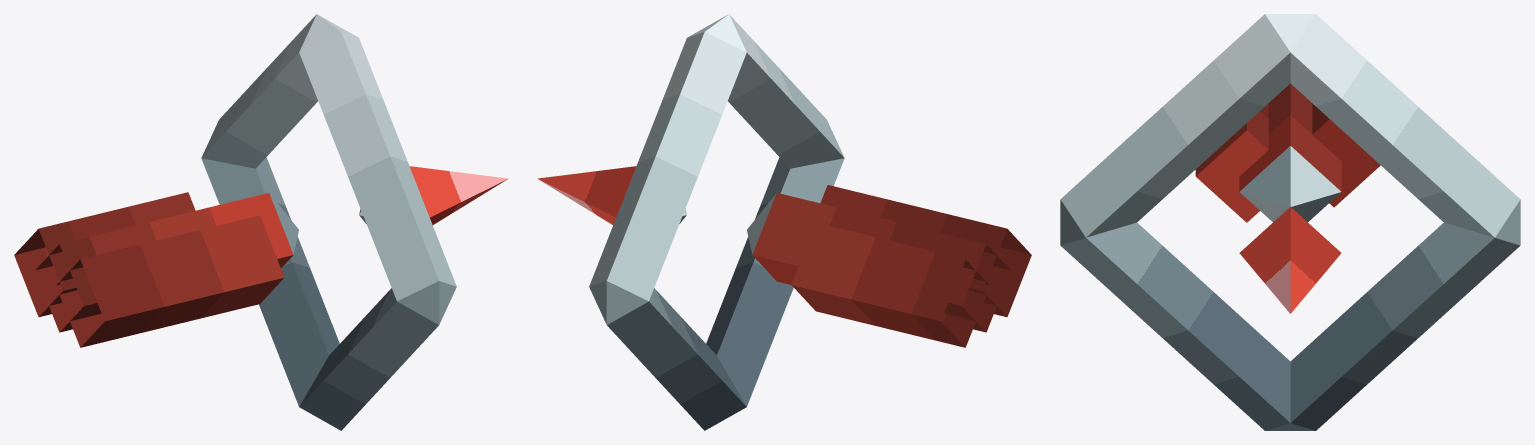
Rendered from signalite_spike_gatekeeping.obj.
3 views of the same model, side by side, from view 1: azimuth 30°, elevation 25°; view 2: azimuth 150°, elevation 25°; view 3: azimuth 270°, elevation 25° (orthographic). The views are drawn at different scales.
Parts seen in each view (by area): view 1: SPIKE_GATEKEEPING_Cube.014; view 2: SPIKE_GATEKEEPING_Cube.014; view 3: SPIKE_GATEKEEPING_Cube.014.
Boxes of the visible parts, x1,y1,x2,y2 form: SPIKE_GATEKEEPING_Cube.014: [14, 14, 508, 430]; SPIKE_GATEKEEPING_Cube.014: [537, 14, 1031, 430]; SPIKE_GATEKEEPING_Cube.014: [1060, 14, 1520, 430].
Bounding box in the file's own units: 0.4688 × 0.3977 × 0.3977.
